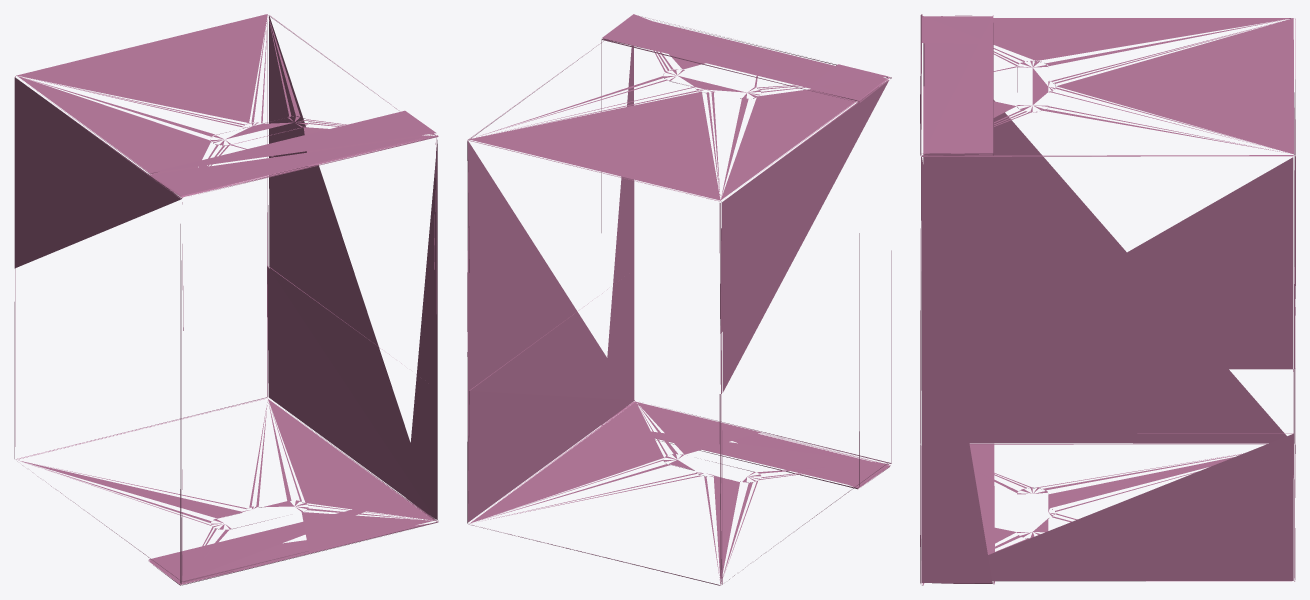
The model's file is box_paper_office_burgundy_a01.glb.
3 views of the same model, side by side, from view 1: azimuth 30°, elevation 25°; view 2: azimuth 150°, elevation 25°; view 3: azimuth 270°, elevation 25° (orthographic). The views are drawn at different scales.
Parts seen in each view (by area): view 1: geometry_0; view 2: geometry_0; view 3: geometry_0.
Boxes of the visible parts, x1,y1,x2,y2 form: geometry_0: (14,14,438,585); geometry_0: (467,14,891,585); geometry_0: (920,14,1295,585).
Bounding box in the file's own units: 0.3326 × 0.48 × 0.3773.
